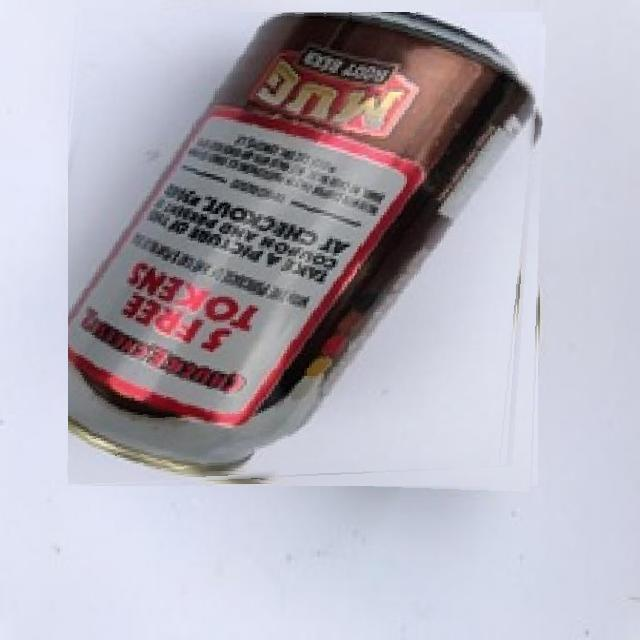recyclable: (68, 12, 544, 488)
